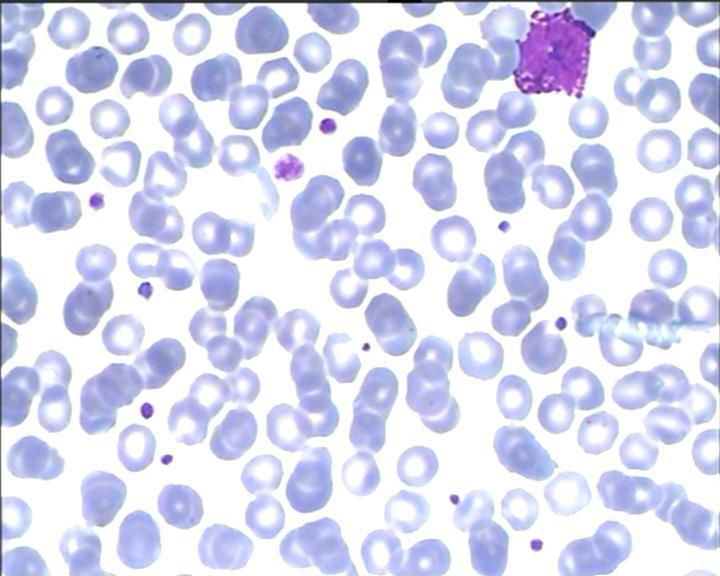baso: (507, 3, 599, 102)
